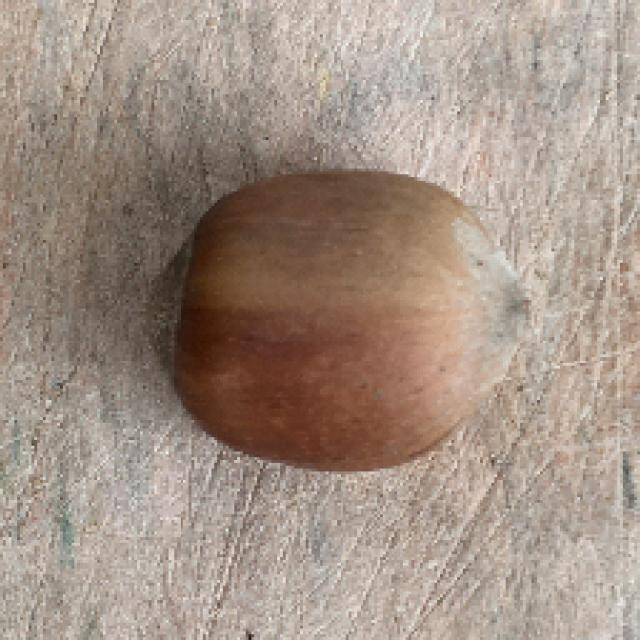qualityHazelnut: (136, 163, 546, 468)
